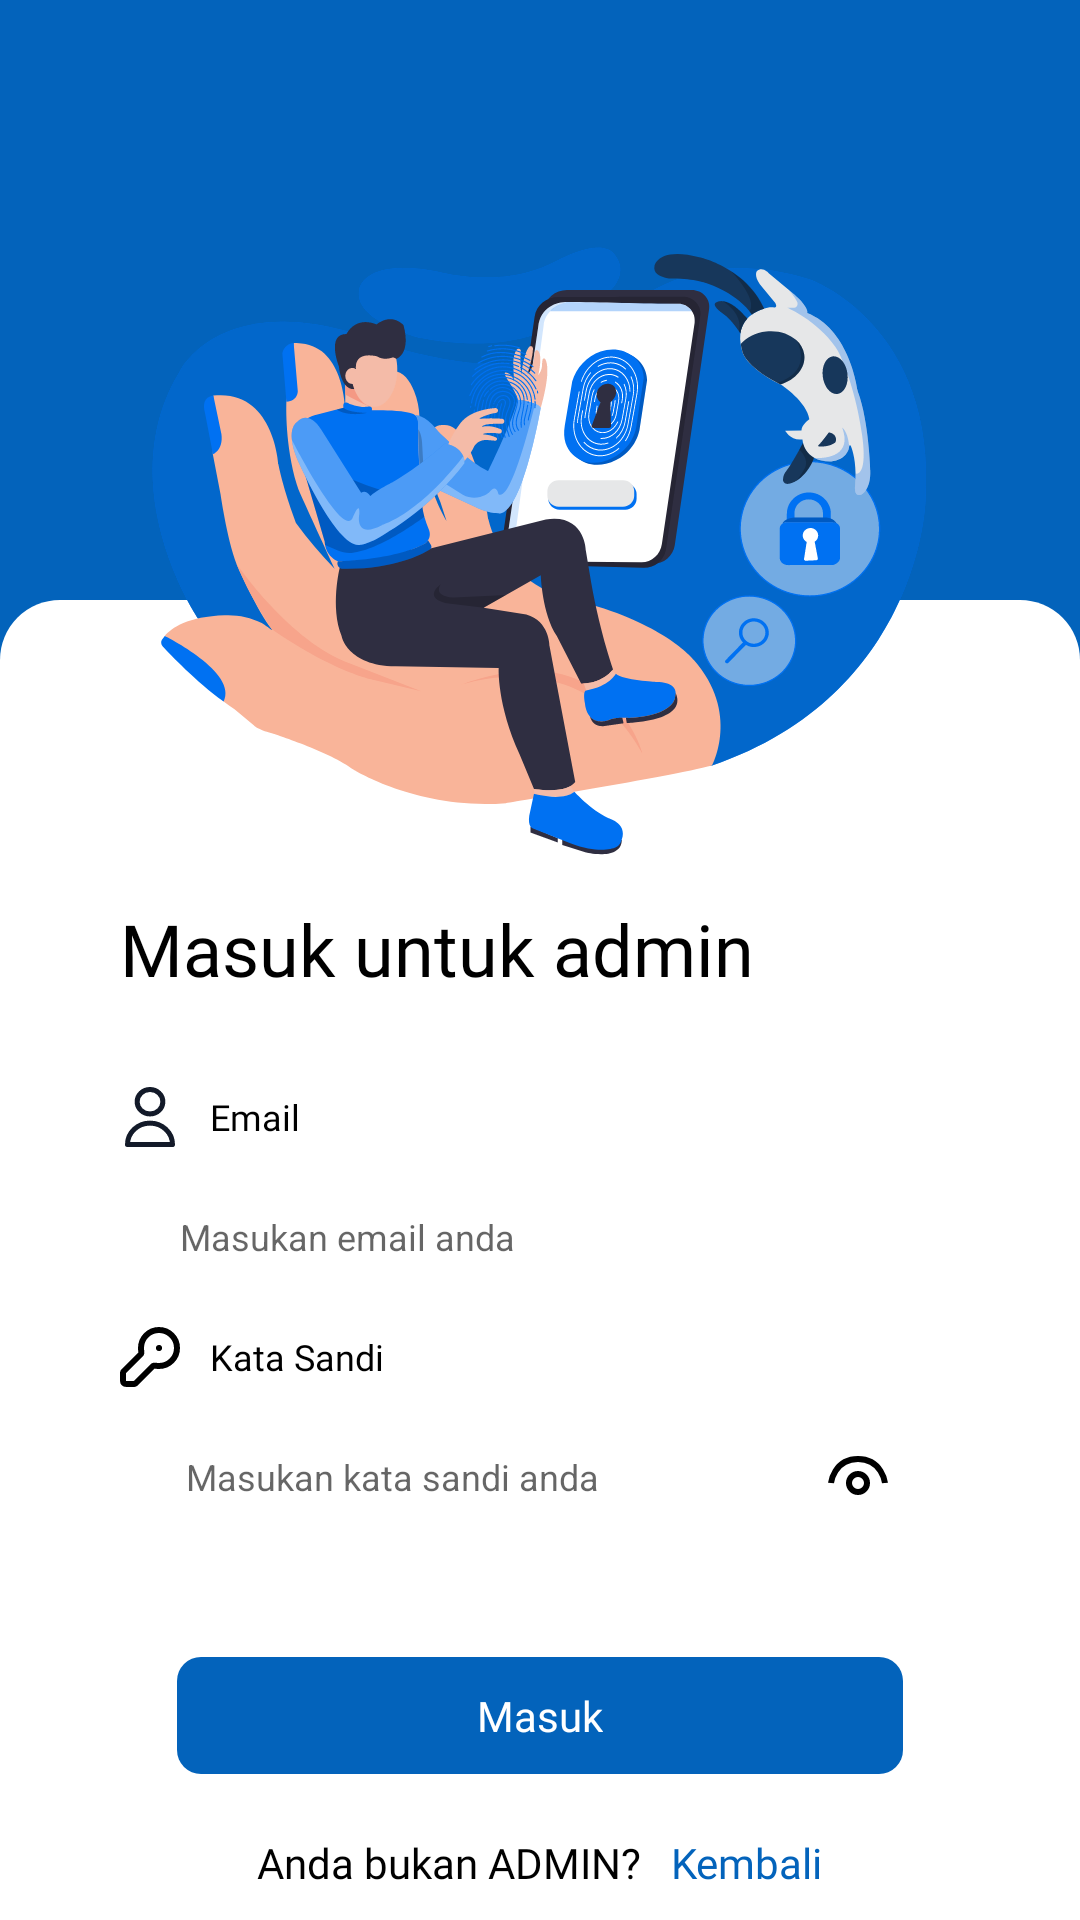

Where to tap for icons on this 1080 × 1920 app screen, as (x,y):
key: (150,1357)
user: (150,1117)
